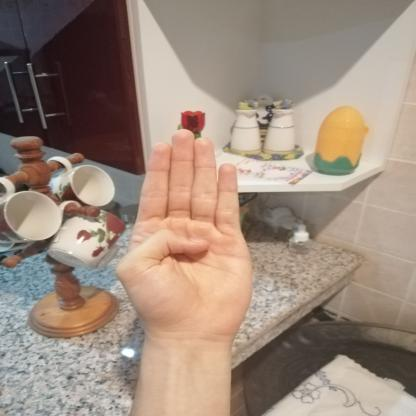KAAF: (106, 117, 264, 349)
